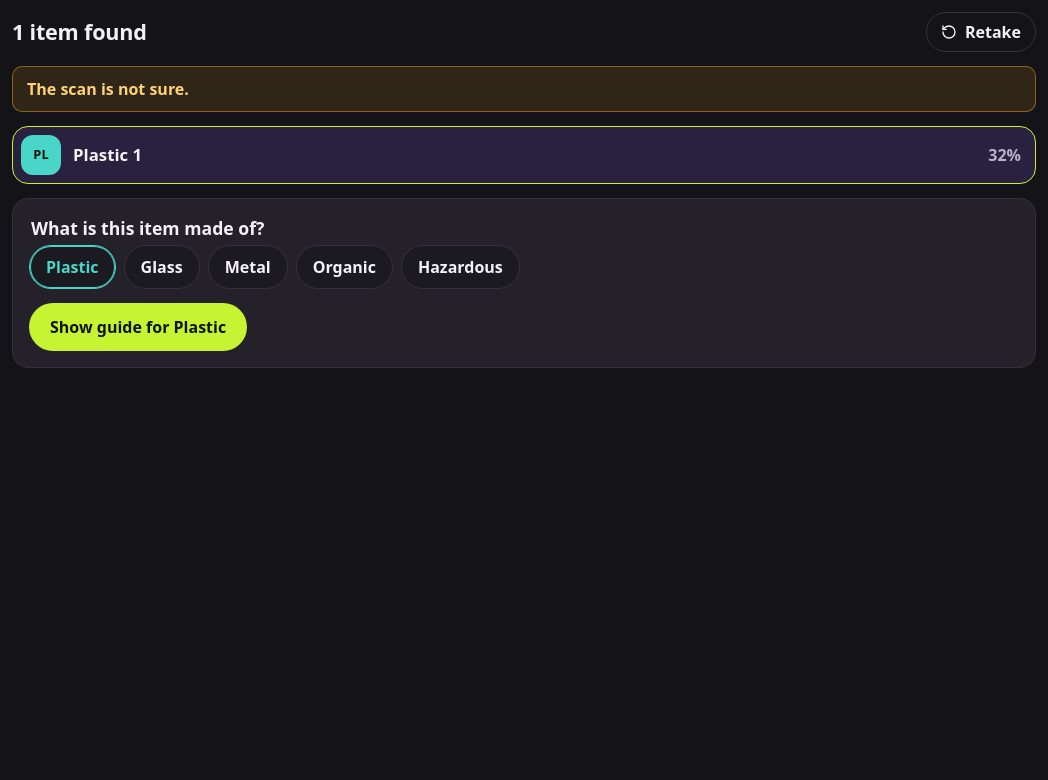
Test: asks for confirmation before showing a guide for an uncertain scan
Expected: the element "What is this item made of?" is shown, [29,216,520,289]
Click the radio button labelled "Glass" at (162, 267), box [124,245,200,289]
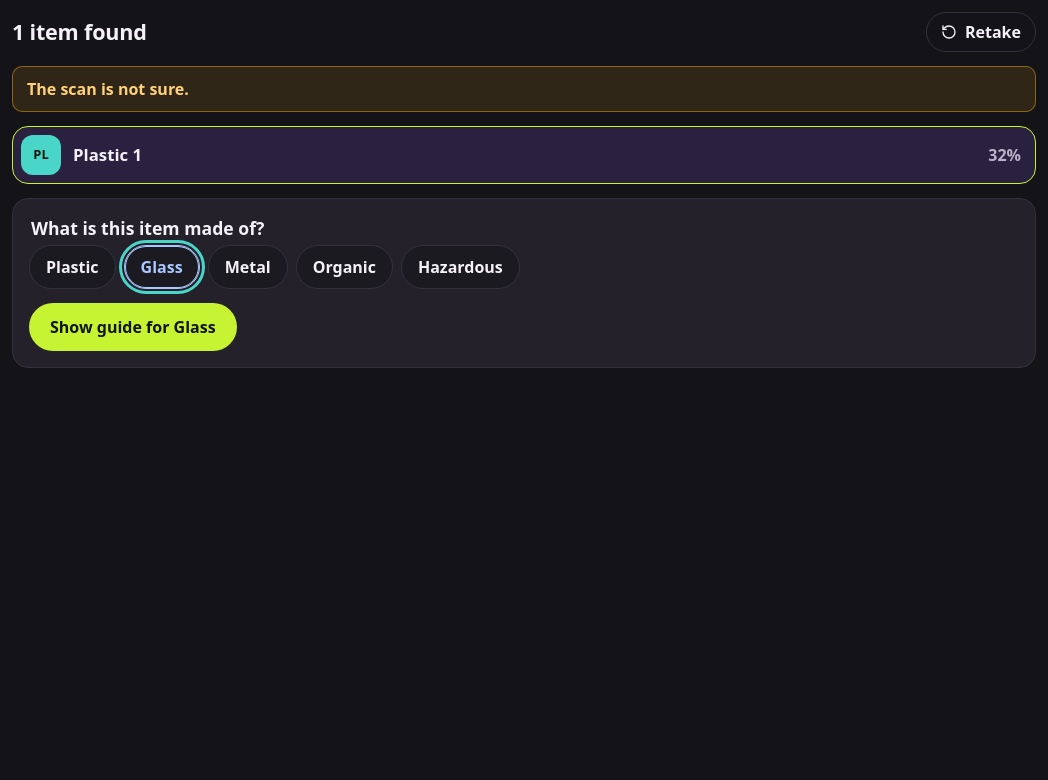
Click the button "Show guide for Glass" at (133, 327), box [29,303,237,351]
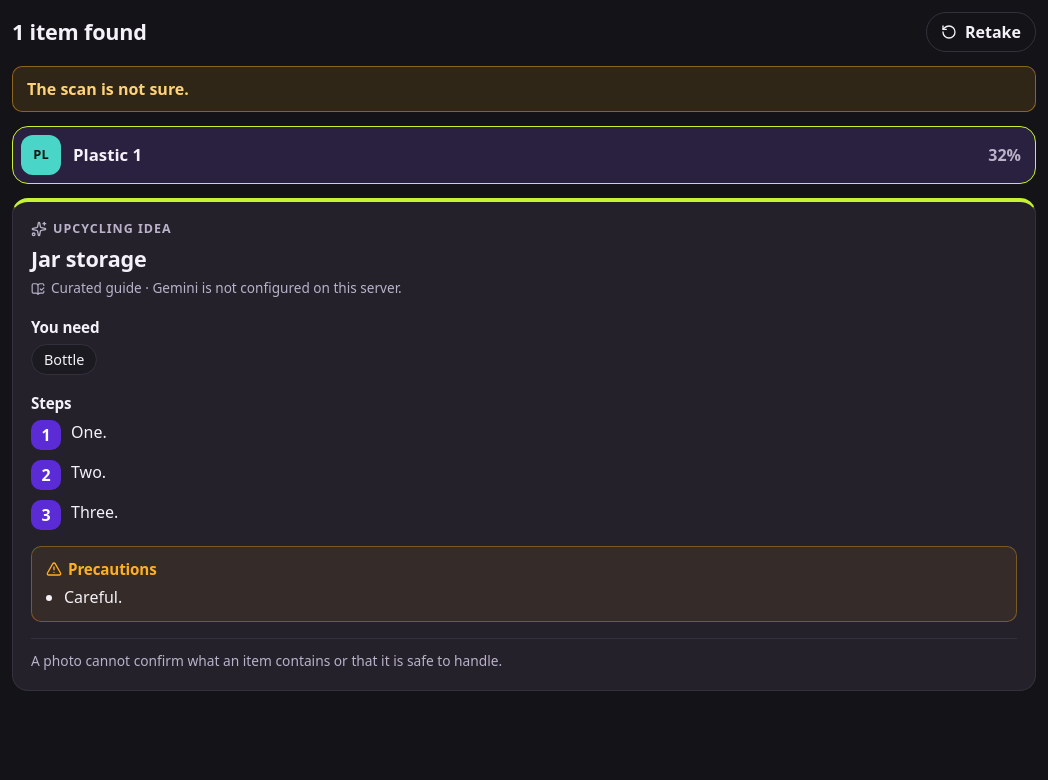
Result: the heading "Jar storage" is shown at [31,244,147,273]
